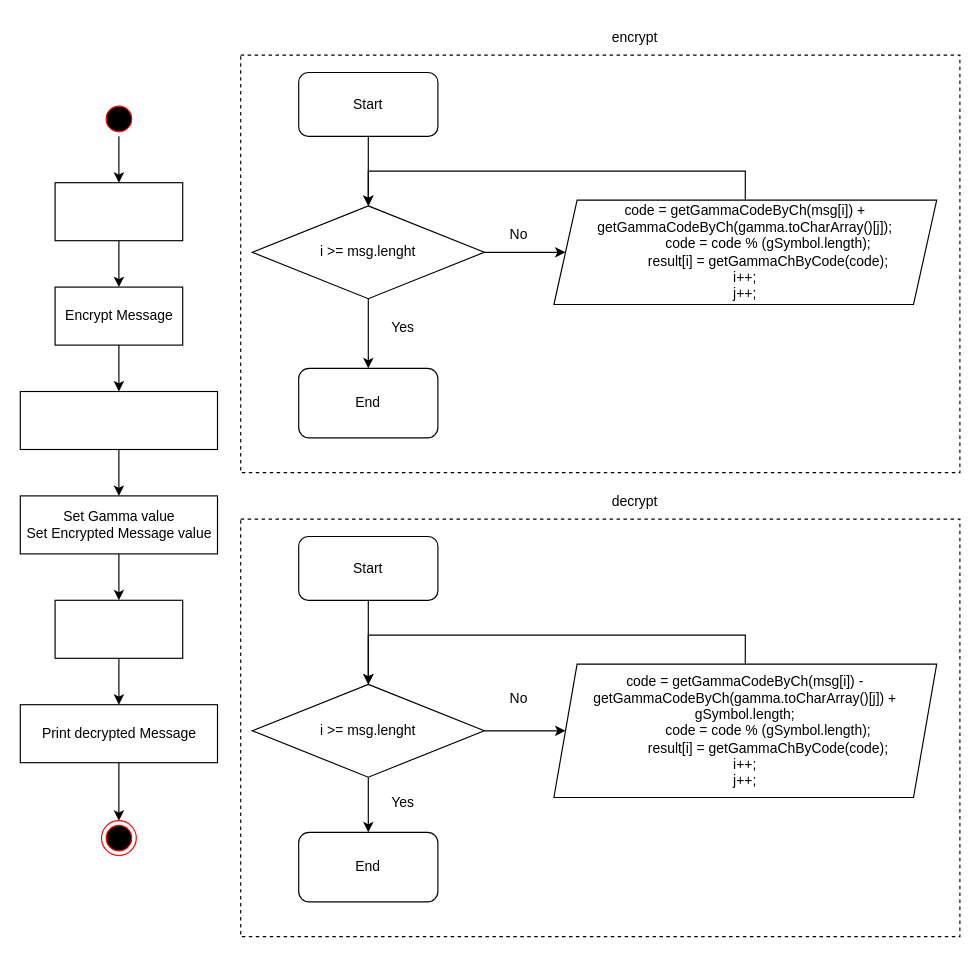
The diagram is 980 pixels wide and 957 high, and some of its shapes have lost their labels. The box of each missing label's shape, as (x1, y1, x2, y2) in pixels:
Decrypt Message: (54, 599, 183, 658)
Print encrypted Message: (19, 390, 217, 449)
Set Gamma value Set Message value: (54, 182, 183, 241)
